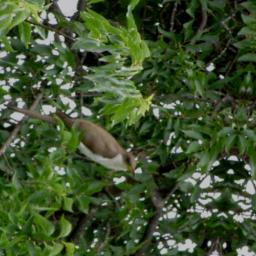Cuckoo: (0, 100, 149, 182)
